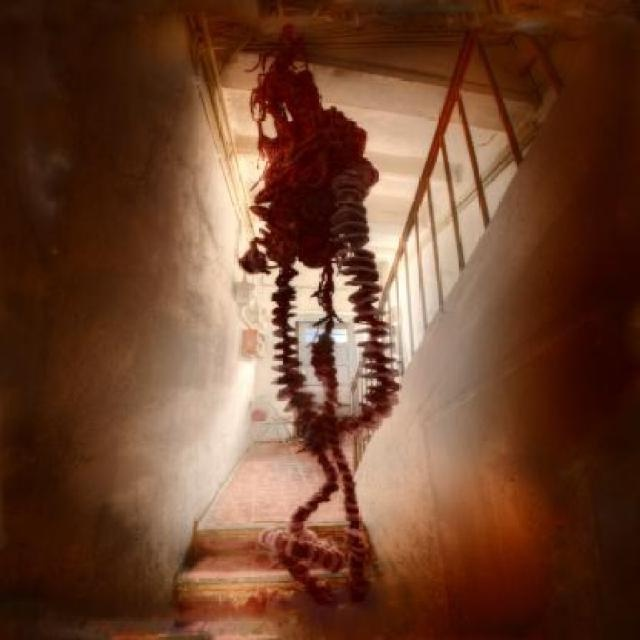stair: (174, 518, 378, 640)
